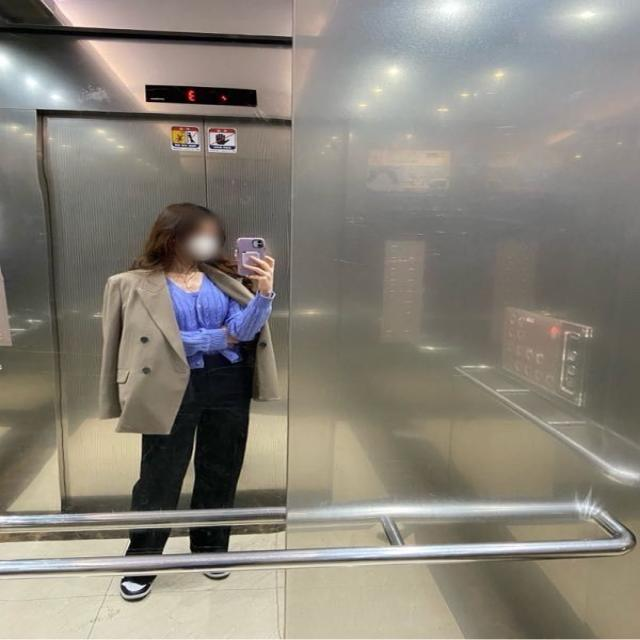blazer: (91, 260, 284, 439)
cardigan: (155, 265, 271, 369)
slacks: (116, 346, 256, 576)
